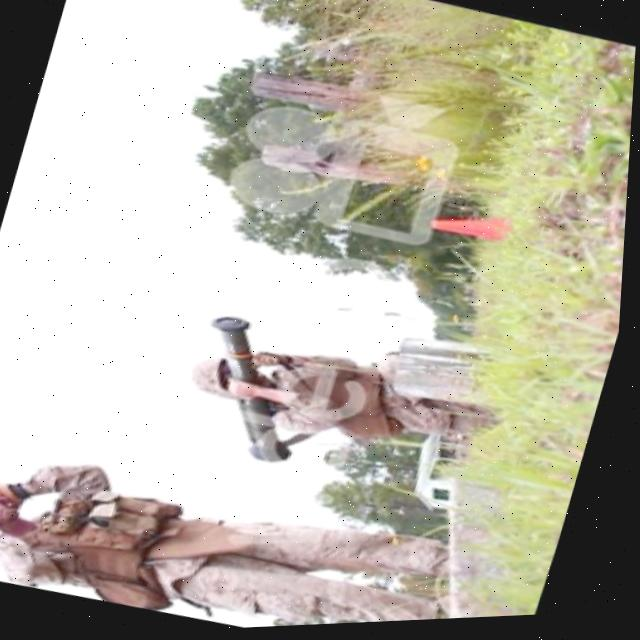rocket: (170, 307, 340, 475)
